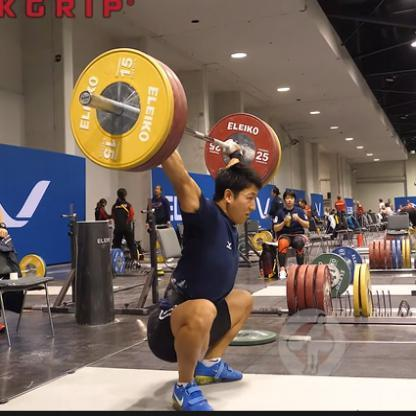barbell: (70, 47, 281, 188)
